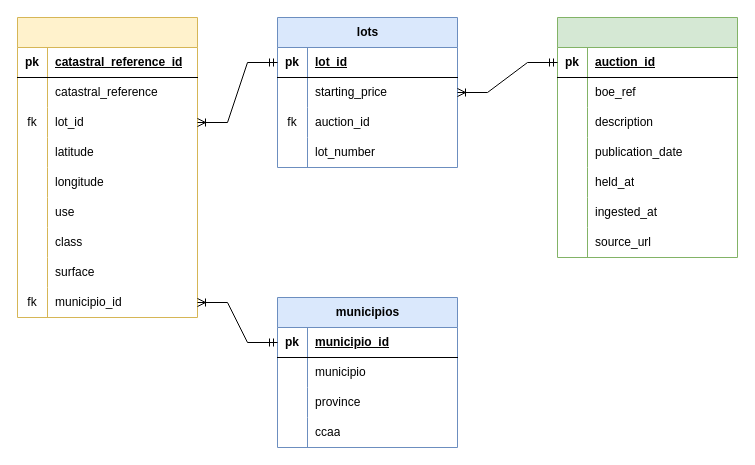
Image size: 755x465. Some labels were removed from this diagram. The shapes that lost their labels are listed below. From the top down, each one's box as (x1, y1, x2, y2) in pixels, then its label:
(556, 16, 738, 258): auctions
(16, 16, 198, 318): catastral_references
